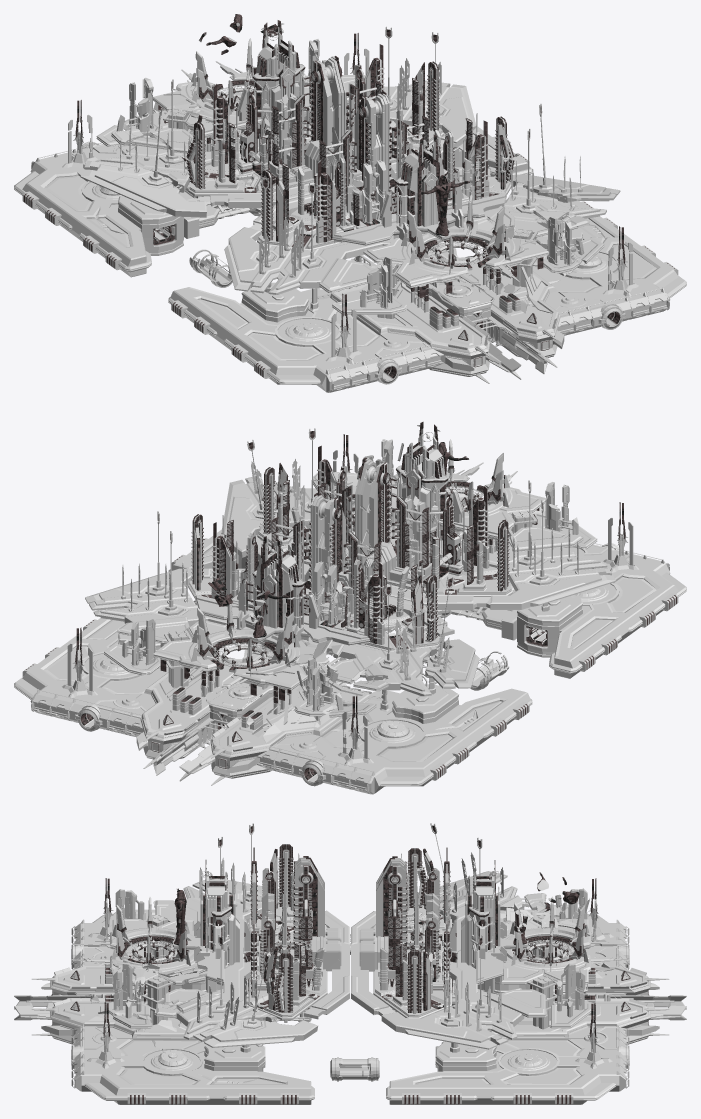
Rendered from alien-city 3.fbx.
The picture shows the model from 3 angles, top to bottom: view 1: azimuth 30°, elevation 25°; view 2: azimuth 150°, elevation 25°; view 3: azimuth 270°, elevation 25°; orthographic projection. The views are drawn at different scales.
Visible parts, largest first — view 1: _gltfNode_17, _gltfNode_16, _gltfNode_0, _gltfNode_13, _gltfNode_3, _gltfNode_22, _gltfNode_2, _gltfNode_9, _gltfNode_20, _gltfNode_1, _gltfNode_4, _gltfNode_11 (+6 smaller); view 2: _gltfNode_17, _gltfNode_16, _gltfNode_3, _gltfNode_13, _gltfNode_0, _gltfNode_22, _gltfNode_4, _gltfNode_9, _gltfNode_1, _gltfNode_20, _gltfNode_2, _gltfNode_11 (+6 smaller); view 3: _gltfNode_17, _gltfNode_16, _gltfNode_2, _gltfNode_4, _gltfNode_22, _gltfNode_13, _gltfNode_9, _gltfNode_20, _gltfNode_1, _gltfNode_3, _gltfNode_0, _gltfNode_11 (+6 smaller).
Boxes of the visible parts, x1=… form: _gltfNode_17: x1=15, y1=30, x2=677, y2=392; _gltfNode_16: x1=159, y1=23, x2=685, y2=392; _gltfNode_0: x1=168, y1=75, x2=529, y2=392; _gltfNode_13: x1=24, y1=20, x2=674, y2=380; _gltfNode_3: x1=14, y1=40, x2=444, y2=277; _gltfNode_22: x1=36, y1=39, x2=663, y2=374; _gltfNode_2: x1=189, y1=114, x2=686, y2=390; _gltfNode_9: x1=22, y1=57, x2=678, y2=391; _gltfNode_20: x1=15, y1=20, x2=624, y2=383; _gltfNode_1: x1=31, y1=30, x2=667, y2=392; _gltfNode_4: x1=159, y1=26, x2=664, y2=374; _gltfNode_11: x1=68, y1=22, x2=632, y2=313; _gltfNode_17: x1=23, y1=432, x2=676, y2=794; _gltfNode_16: x1=15, y1=425, x2=685, y2=774; _gltfNode_3: x1=33, y1=516, x2=532, y2=793; _gltfNode_13: x1=75, y1=422, x2=676, y2=781; _gltfNode_0: x1=112, y1=429, x2=686, y2=727; _gltfNode_22: x1=37, y1=440, x2=664, y2=775; _gltfNode_4: x1=14, y1=428, x2=662, y2=775; _gltfNode_9: x1=22, y1=459, x2=678, y2=793; _gltfNode_1: x1=33, y1=432, x2=669, y2=794; _gltfNode_20: x1=75, y1=422, x2=685, y2=784; _gltfNode_2: x1=168, y1=441, x2=669, y2=690; _gltfNode_11: x1=211, y1=443, x2=508, y2=747; _gltfNode_17: x1=14, y1=826, x2=686, y2=1095; _gltfNode_16: x1=15, y1=826, x2=680, y2=1104; _gltfNode_2: x1=14, y1=867, x2=395, y2=1104; _gltfNode_4: x1=61, y1=823, x2=686, y2=1104; _gltfNode_22: x1=81, y1=834, x2=619, y2=1084; _gltfNode_13: x1=103, y1=844, x2=597, y2=1104; _gltfNode_9: x1=81, y1=859, x2=619, y2=1104; _gltfNode_20: x1=20, y1=846, x2=680, y2=1099; _gltfNode_1: x1=14, y1=849, x2=686, y2=1087; _gltfNode_3: x1=351, y1=852, x2=686, y2=1086; _gltfNode_0: x1=14, y1=852, x2=548, y2=1057; _gltfNode_11: x1=96, y1=858, x2=611, y2=1084.
Size of the model in its own units: 9.2 by 3.88 by 14.03.
Materials: 5 (1 with a texture image).
